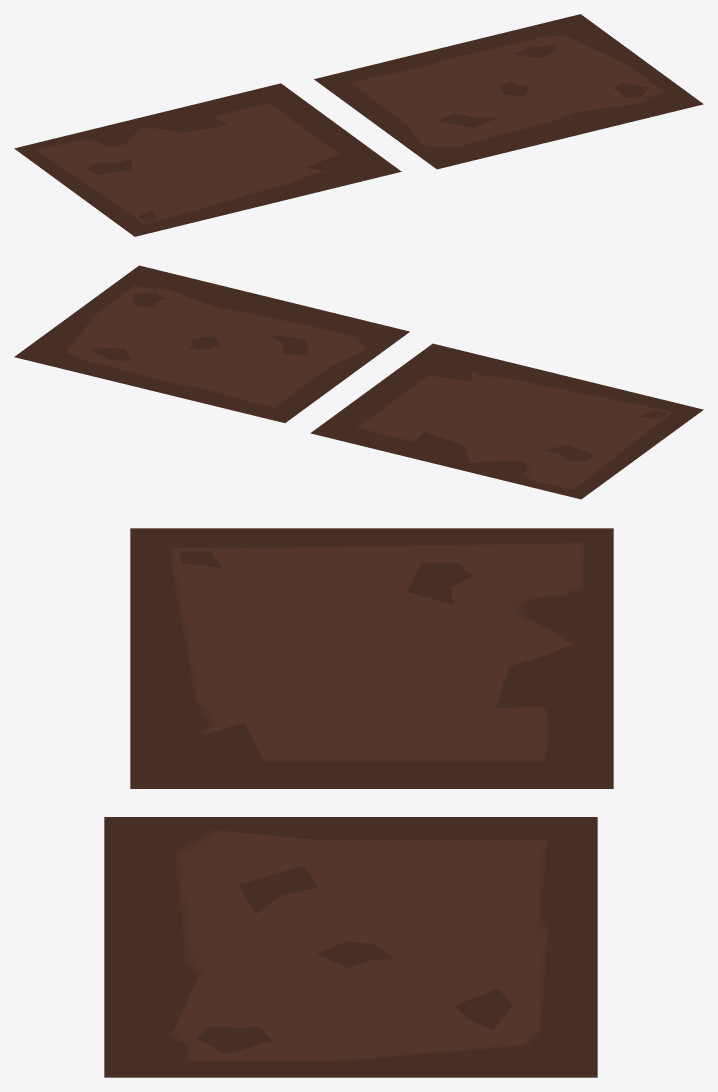
File: SM_Prop_Sink_04_Insert_01.fbx
3 renders of one model, top to bottom at view 1: azimuth 30°, elevation 25°; view 2: azimuth 150°, elevation 25°; view 3: azimuth 270°, elevation 25°, orthographic. The views are drawn at different scales.
Parts seen in each view (by area): view 1: SM_Prop_Sink_04_Insert_01; view 2: SM_Prop_Sink_04_Insert_01; view 3: SM_Prop_Sink_04_Insert_01.
Part boxes in pixels (bbox=[...]): SM_Prop_Sink_04_Insert_01: bbox=[14, 14, 703, 236]; SM_Prop_Sink_04_Insert_01: bbox=[14, 265, 703, 499]; SM_Prop_Sink_04_Insert_01: bbox=[104, 528, 613, 1077].
Size of the model in its own units: 183 by 0 by 71.65.
